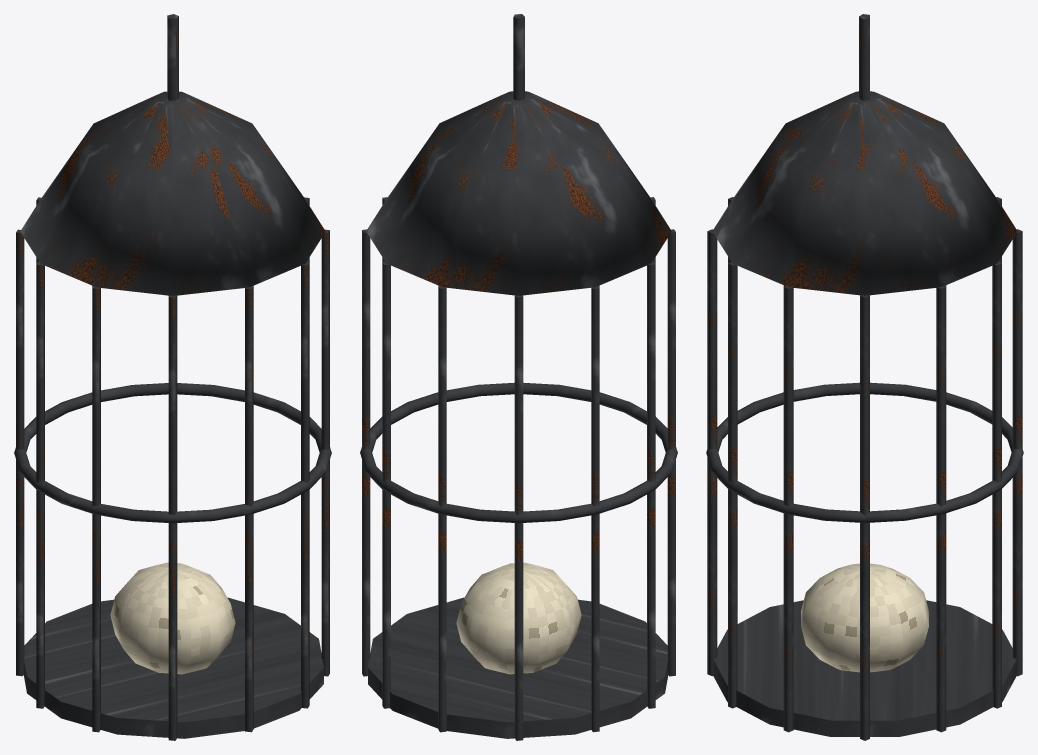
File: hangingCage.glb
The picture shows the model from 3 angles, left to right: view 1: azimuth 30°, elevation 25°; view 2: azimuth 150°, elevation 25°; view 3: azimuth 270°, elevation 25°; orthographic projection.
Visible parts, largest first — view 1: anim_swing_0; view 2: anim_swing_0; view 3: anim_swing_0.
Boxes of the visible parts, <box> form: anim_swing_0: <box>14,14,331,740</box>; anim_swing_0: <box>360,14,677,740</box>; anim_swing_0: <box>706,14,1023,740</box>.
Size of the model in its own units: 0.5201 by 1.19 by 0.5201.
Materials: 2 (2 with a texture image).
